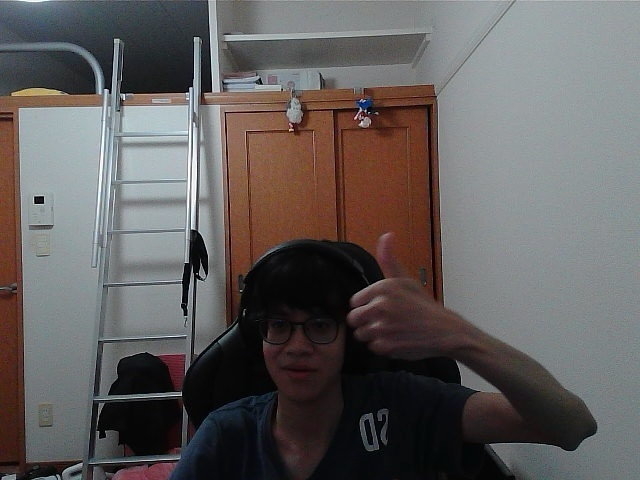thumb_up: (353, 249, 437, 348)
